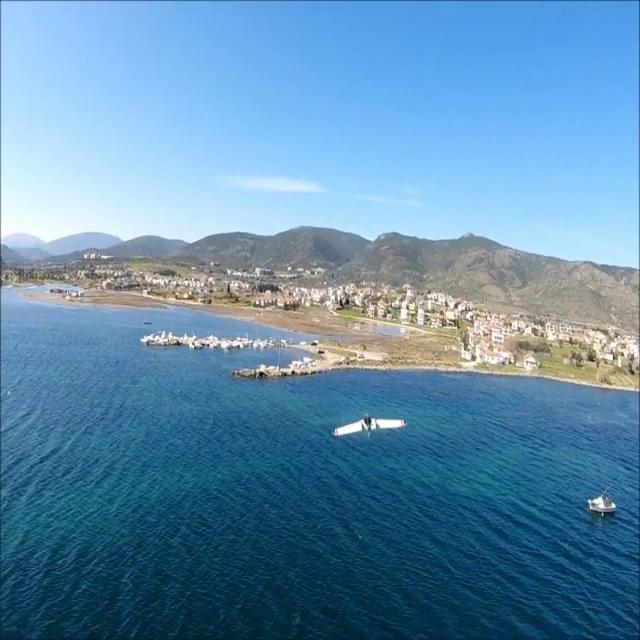iha: (363, 405, 376, 448)
